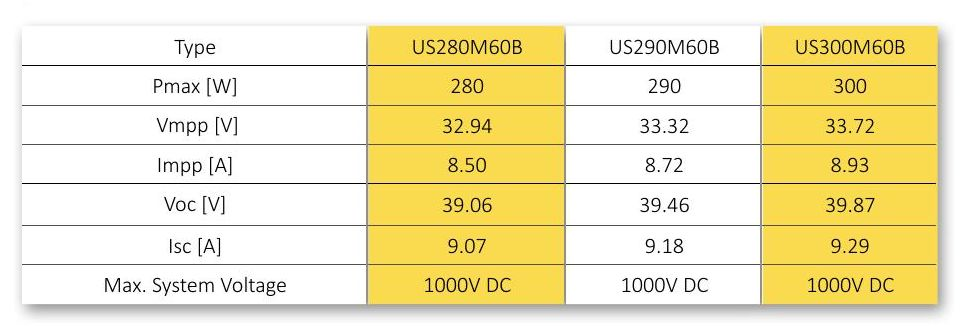table: (12, 15, 954, 314)
table column: (35, 25, 361, 303), (379, 25, 559, 305), (577, 25, 755, 305), (772, 25, 934, 305)
table row: (27, 185, 936, 222), (26, 68, 938, 102), (27, 29, 937, 63), (26, 269, 936, 301), (26, 109, 937, 140), (27, 148, 937, 178), (26, 229, 935, 257)
